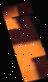scratch: (3, 12, 48, 72)
